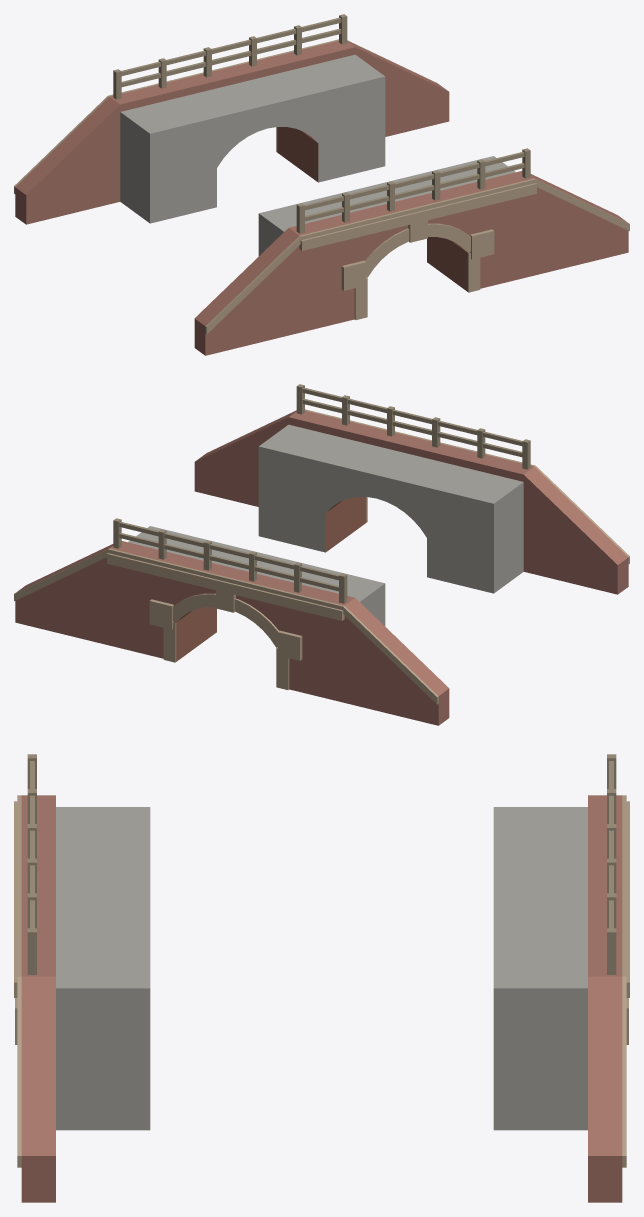
File: nyc-willowdell-arch.glb
3 views of the same model, one above another, from view 1: azimuth 30°, elevation 25°; view 2: azimuth 150°, elevation 25°; view 3: azimuth 270°, elevation 25° (orthographic). The views are drawn at different scales.
Parts seen in each view (by area): view 1: Willowdell Arch; view 2: Willowdell Arch; view 3: Willowdell Arch.
Boxes of the visible parts, x1,y1,x2,y2 form: Willowdell Arch: [14, 14, 629, 355]; Willowdell Arch: [14, 384, 629, 725]; Willowdell Arch: [14, 754, 629, 1202].
Size of the model in its own units: 18 by 5.05 by 14.36.
